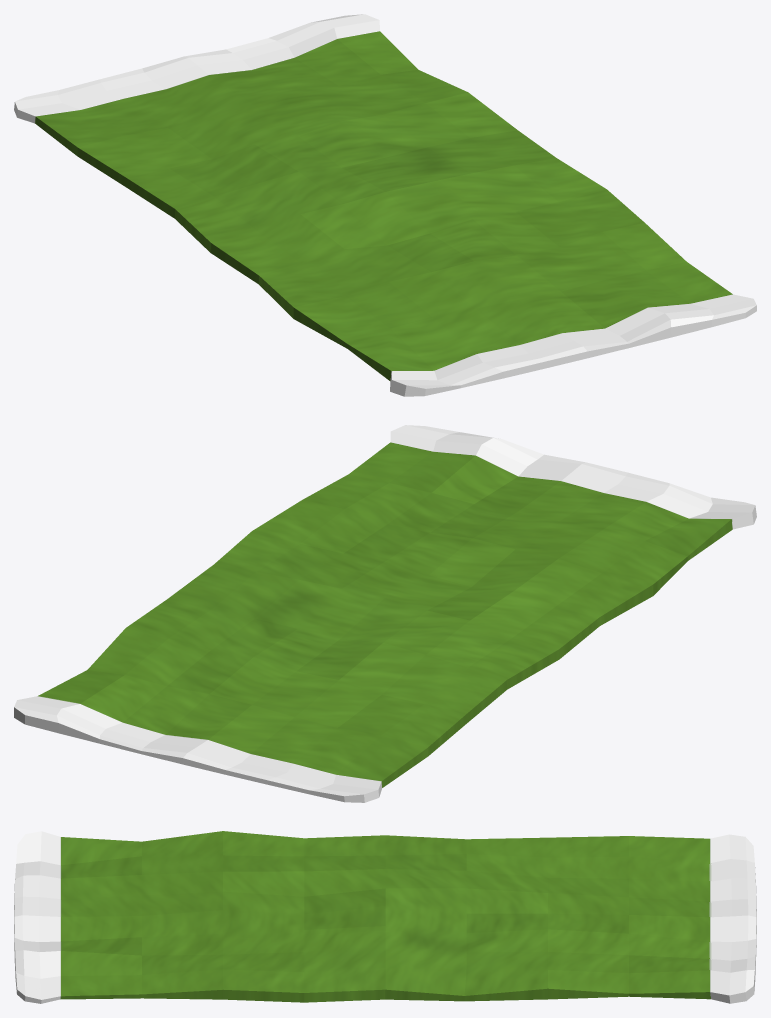
Rendered from Carpet1.fbx.
The picture shows the model from 3 angles, top to bottom: view 1: azimuth 30°, elevation 25°; view 2: azimuth 150°, elevation 25°; view 3: azimuth 270°, elevation 25°; orthographic projection. The views are drawn at different scales.
Visible parts, largest first — view 1: Carpet1.001; view 2: Carpet1.001; view 3: Carpet1.001.
Boxes of the visible parts, <box> form: Carpet1.001: <box>14,14,756,396</box>; Carpet1.001: <box>14,425,756,802</box>; Carpet1.001: <box>14,831,756,1003</box>.
Size of the model in its own units: 437 by 21.39 by 841.
